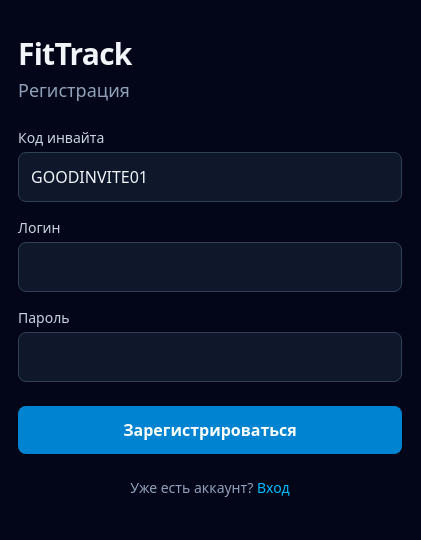
Scenario: RegisterPage › валидирует короткий пароль до отправки
In the field labelled "Логин": (210, 267) [18,242,402,292], type "newuser"
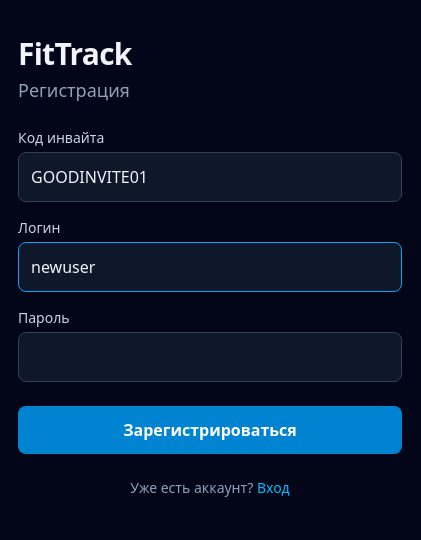
In the password field labelled "Пароль": (210, 357) [18,332,402,382], type "123"
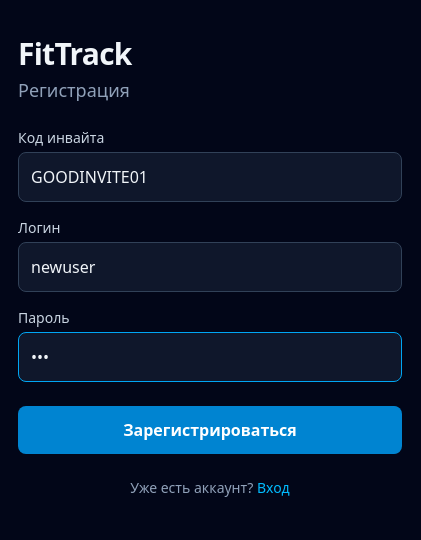
Click the button "Зарегистрироваться": (210, 430) [18,406,402,454]
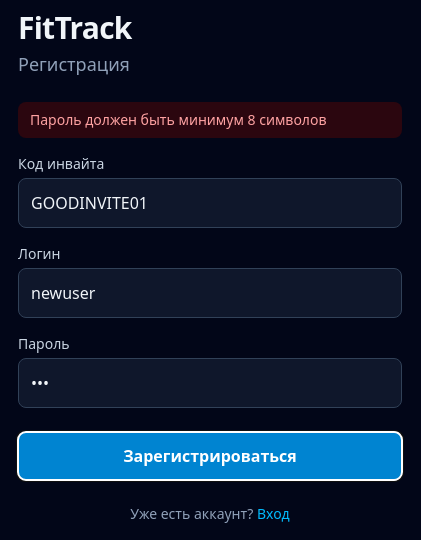
Expected: the text "Пароль должен быть минимум 8 символов" is shown, [18,102,402,138]
